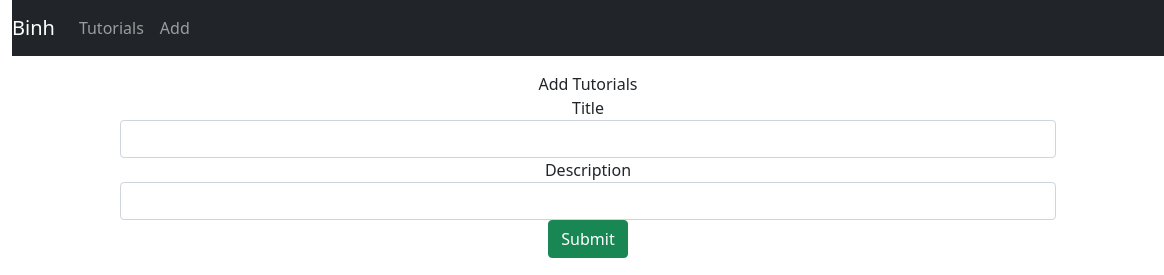
Test: Routes › redirects page to route path tutorials
The image size is (1164, 275).
Click the link "Tutorials".
click(111, 28)  # box [79,17,144,39]
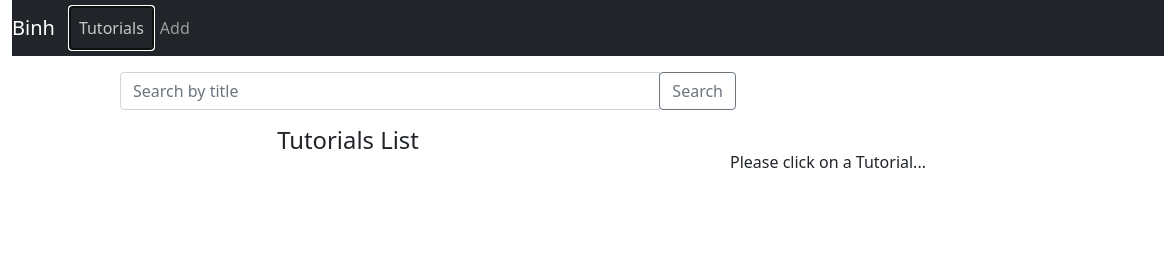
Now the heading "Tutorials List" is shown, box [277,124,419,156]
